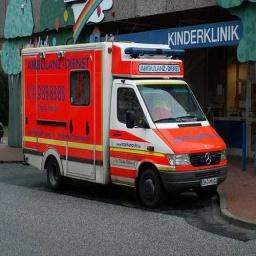Ambulance: (22, 42, 226, 206)
